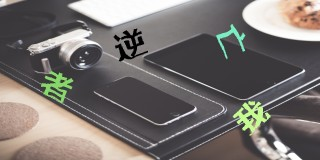亡: (215, 23, 246, 60)
我: (233, 99, 271, 136)
者: (40, 70, 74, 104)
逆: (113, 28, 148, 62)
